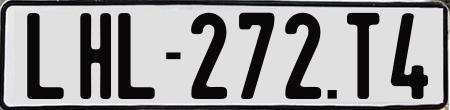2: (282, 12, 324, 98), (191, 12, 228, 103)
4: (388, 12, 428, 102)
7: (239, 13, 279, 105)
H: (77, 13, 110, 102)
L: (27, 11, 64, 100), (117, 13, 154, 102)
T: (347, 11, 381, 97)
